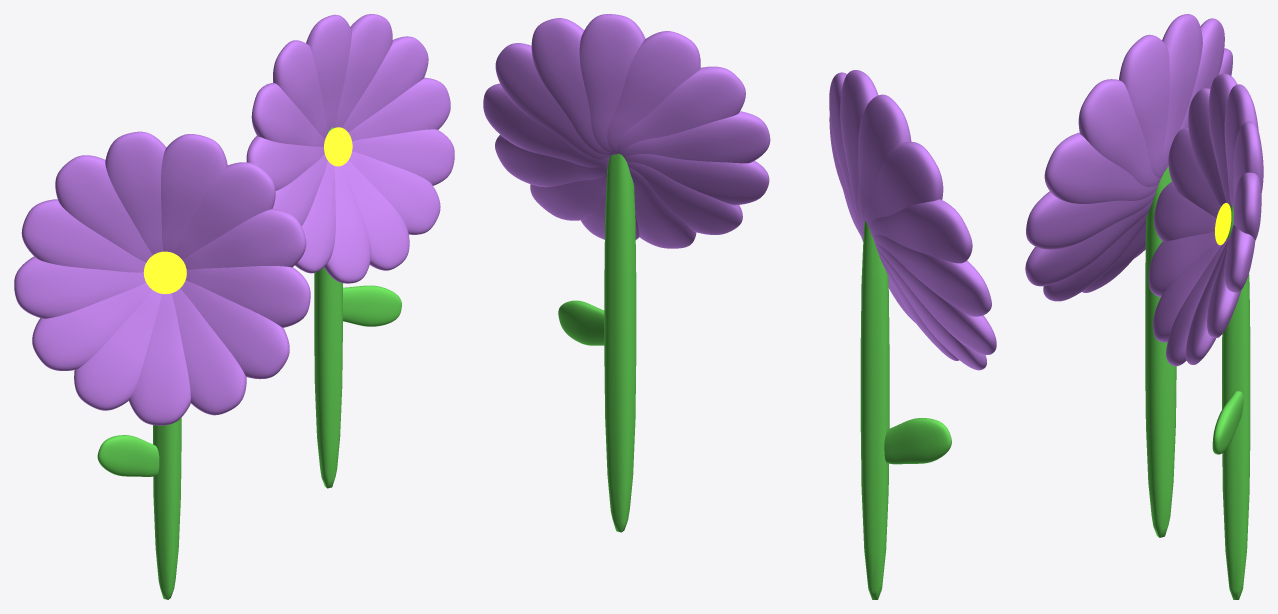
Rendered from flowers.fbx.
3 views of the same model, side by side, from view 1: azimuth 30°, elevation 25°; view 2: azimuth 150°, elevation 25°; view 3: azimuth 270°, elevation 25° (orthographic). The views are drawn at different scales.
Visible parts, largest first — view 1: Roundcube.009, Roundcube.010, Roundcube.008, Roundcube.011, Roundcube.013, Roundcube.012, Plane.027, Plane.028; view 2: Roundcube.010, Roundcube.009, Roundcube.008, Roundcube.011, Roundcube.013, Roundcube.012; view 3: Roundcube.009, Roundcube.010, Roundcube.008, Roundcube.011, Roundcube.012, Plane.028.
Part boxes in pixels (left/top/right/bottom): Roundcube.009: left=14, top=131, right=310, bottom=425; Roundcube.010: left=246, top=14, right=454, bottom=283; Roundcube.008: left=314, top=127, right=342, bottom=488; Roundcube.011: left=153, top=417, right=181, bottom=599; Roundcube.013: left=97, top=435, right=159, bottom=476; Roundcube.012: left=343, top=285, right=401, bottom=326; Plane.027: left=143, top=251, right=186, bottom=294; Plane.028: left=324, top=127, right=352, bottom=166; Roundcube.010: left=483, top=14, right=770, bottom=248; Roundcube.009: left=829, top=70, right=996, bottom=370; Roundcube.008: left=604, top=153, right=636, bottom=532; Roundcube.011: left=860, top=221, right=889, bottom=599; Roundcube.013: left=884, top=418, right=951, bottom=464; Roundcube.012: left=558, top=300, right=604, bottom=345; Roundcube.009: left=1025, top=14, right=1232, bottom=301; Roundcube.010: left=1148, top=73, right=1263, bottom=366; Roundcube.008: left=1222, top=204, right=1250, bottom=599; Roundcube.011: left=1145, top=166, right=1176, bottom=537; Roundcube.012: left=1212, top=391, right=1243, bottom=454; Plane.028: left=1215, top=203, right=1231, bottom=245.
Size of the model in its own units: 213 by 231 by 89.91.
